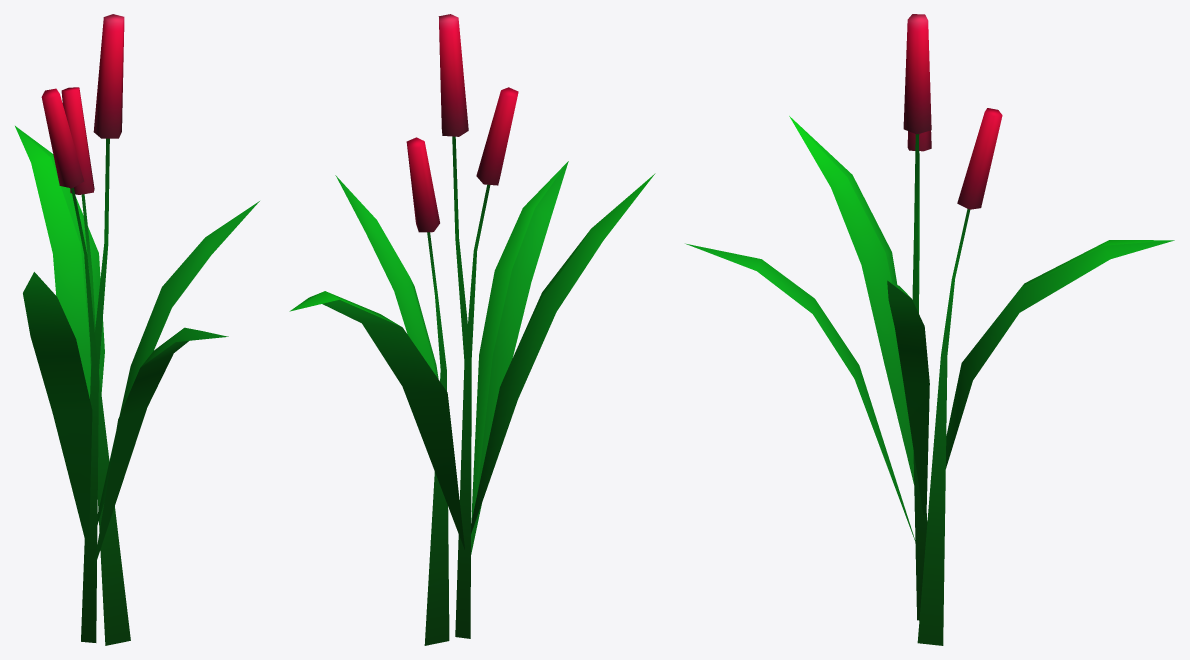
Rendered from Reed_1D.fbx.
3 views of the same model, side by side, from view 1: azimuth 30°, elevation 25°; view 2: azimuth 150°, elevation 25°; view 3: azimuth 270°, elevation 25° (orthographic).
Parts seen in each view (by area): view 1: Reed_1D; view 2: Reed_1D; view 3: Reed_1D.
Part boxes in pixels (x1,y1,x2,y2): Reed_1D: (15,14,259,645); Reed_1D: (289,14,655,645); Reed_1D: (685,14,1174,645).
Bounding box in the file's own units: 68.74 × 150 × 108.
